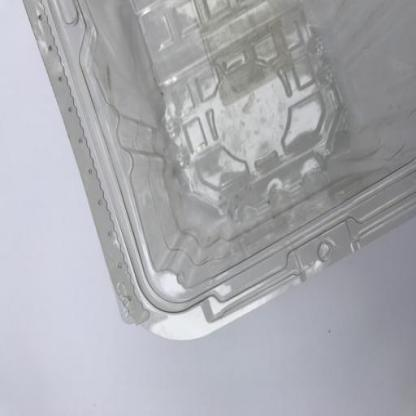Plastic: (24, 1, 416, 341)
